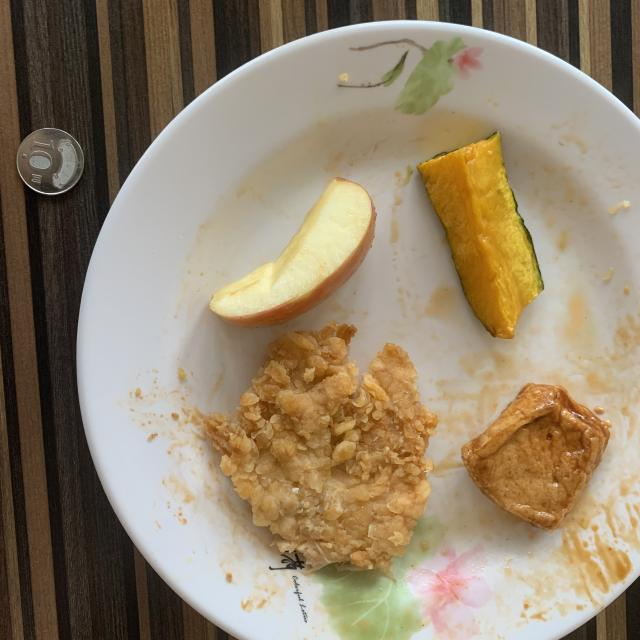apple -sliced-: (210, 178, 376, 328)
coin: (16, 129, 84, 195)
creamy tofu: (461, 384, 610, 531)
fried chicken cutlet: (204, 322, 438, 574)
pumpkin: (418, 132, 544, 339)
